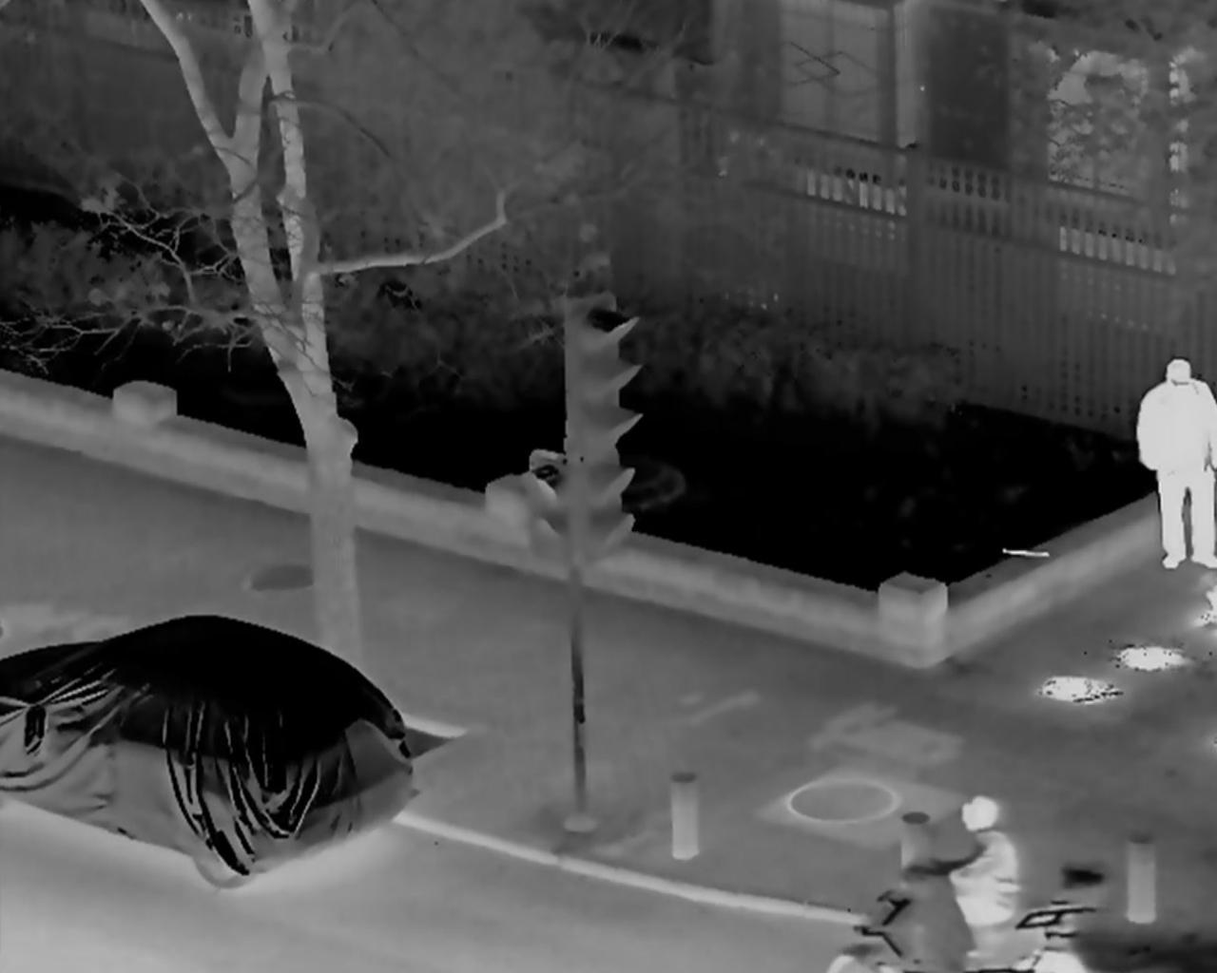person: (912, 789, 1019, 970), (1134, 353, 1216, 571)
